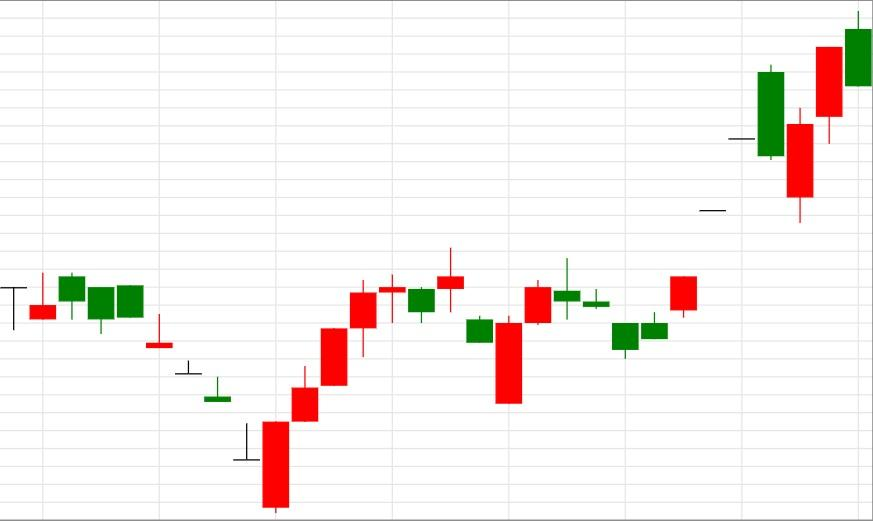three_white_soldiers_rise: (57, 272, 349, 514)
